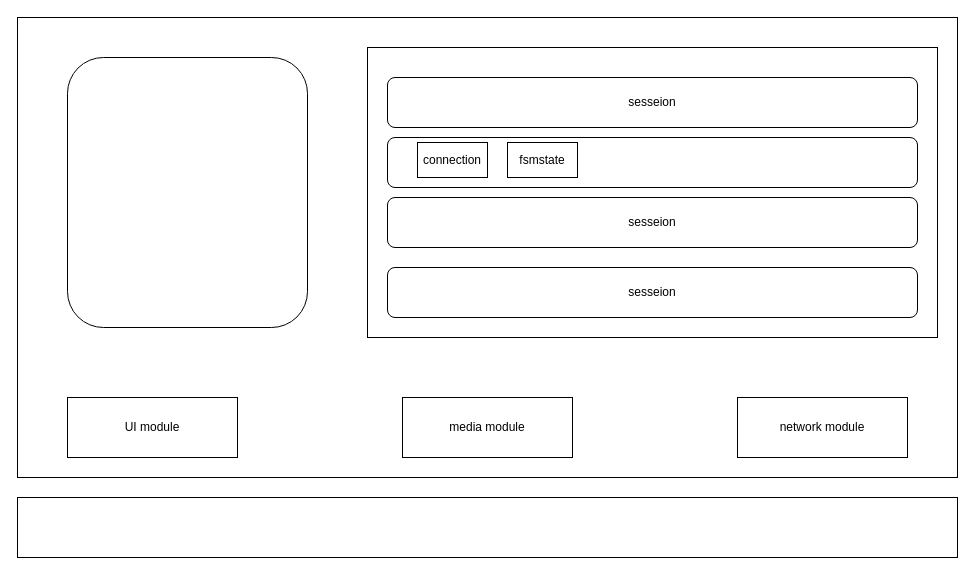
This 975x575 diagram has some shape labels left out. Each missing label, with the box of its shape:
control: (66, 56, 308, 328)
message proxy: (16, 496, 958, 558)
